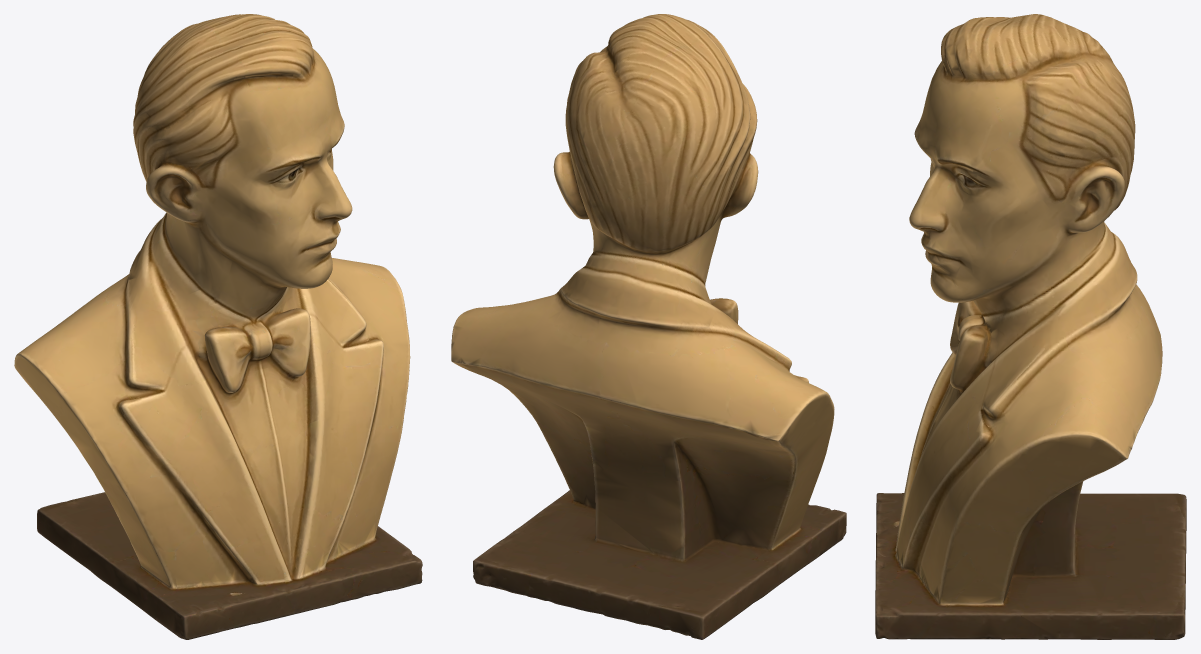
Rendered from 04-busto-pinglo.glb.
The picture shows the model from 3 angles, left to right: view 1: azimuth 30°, elevation 25°; view 2: azimuth 150°, elevation 25°; view 3: azimuth 270°, elevation 25°; orthographic projection. The views are drawn at different scales.
Bounding box in the file's own units: 1.33 × 1.9 × 0.9505.
1 material, 1 textured.
